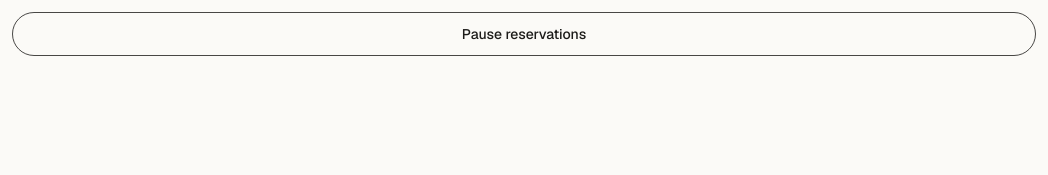
confirmation remains locked until the save finishes, then shows the result
This screenshot has width=1048, height=175.
Later steps or results of the test are not shown.
Click the button "Pause reservations". click: click(524, 34)
box: 12,12 -> 1036,56
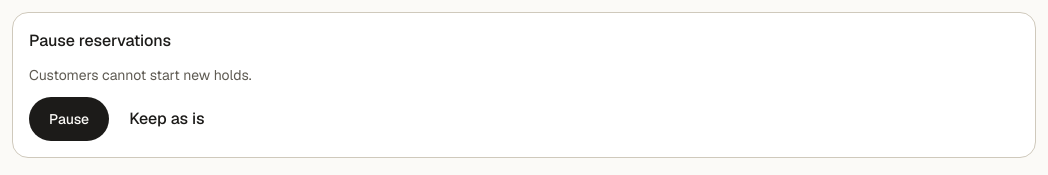
Click the button "Pause". click: click(69, 119)
box: 29,97 -> 109,141
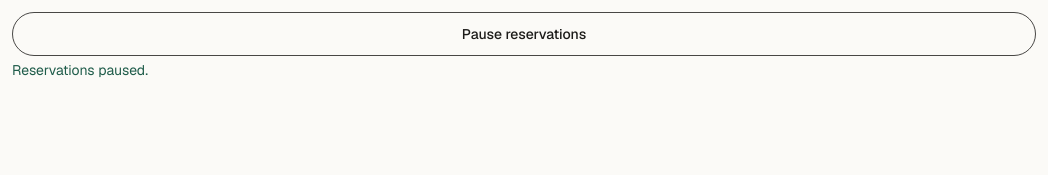
Now the message reads "Reservations paused.", box 12,61 -> 148,79
